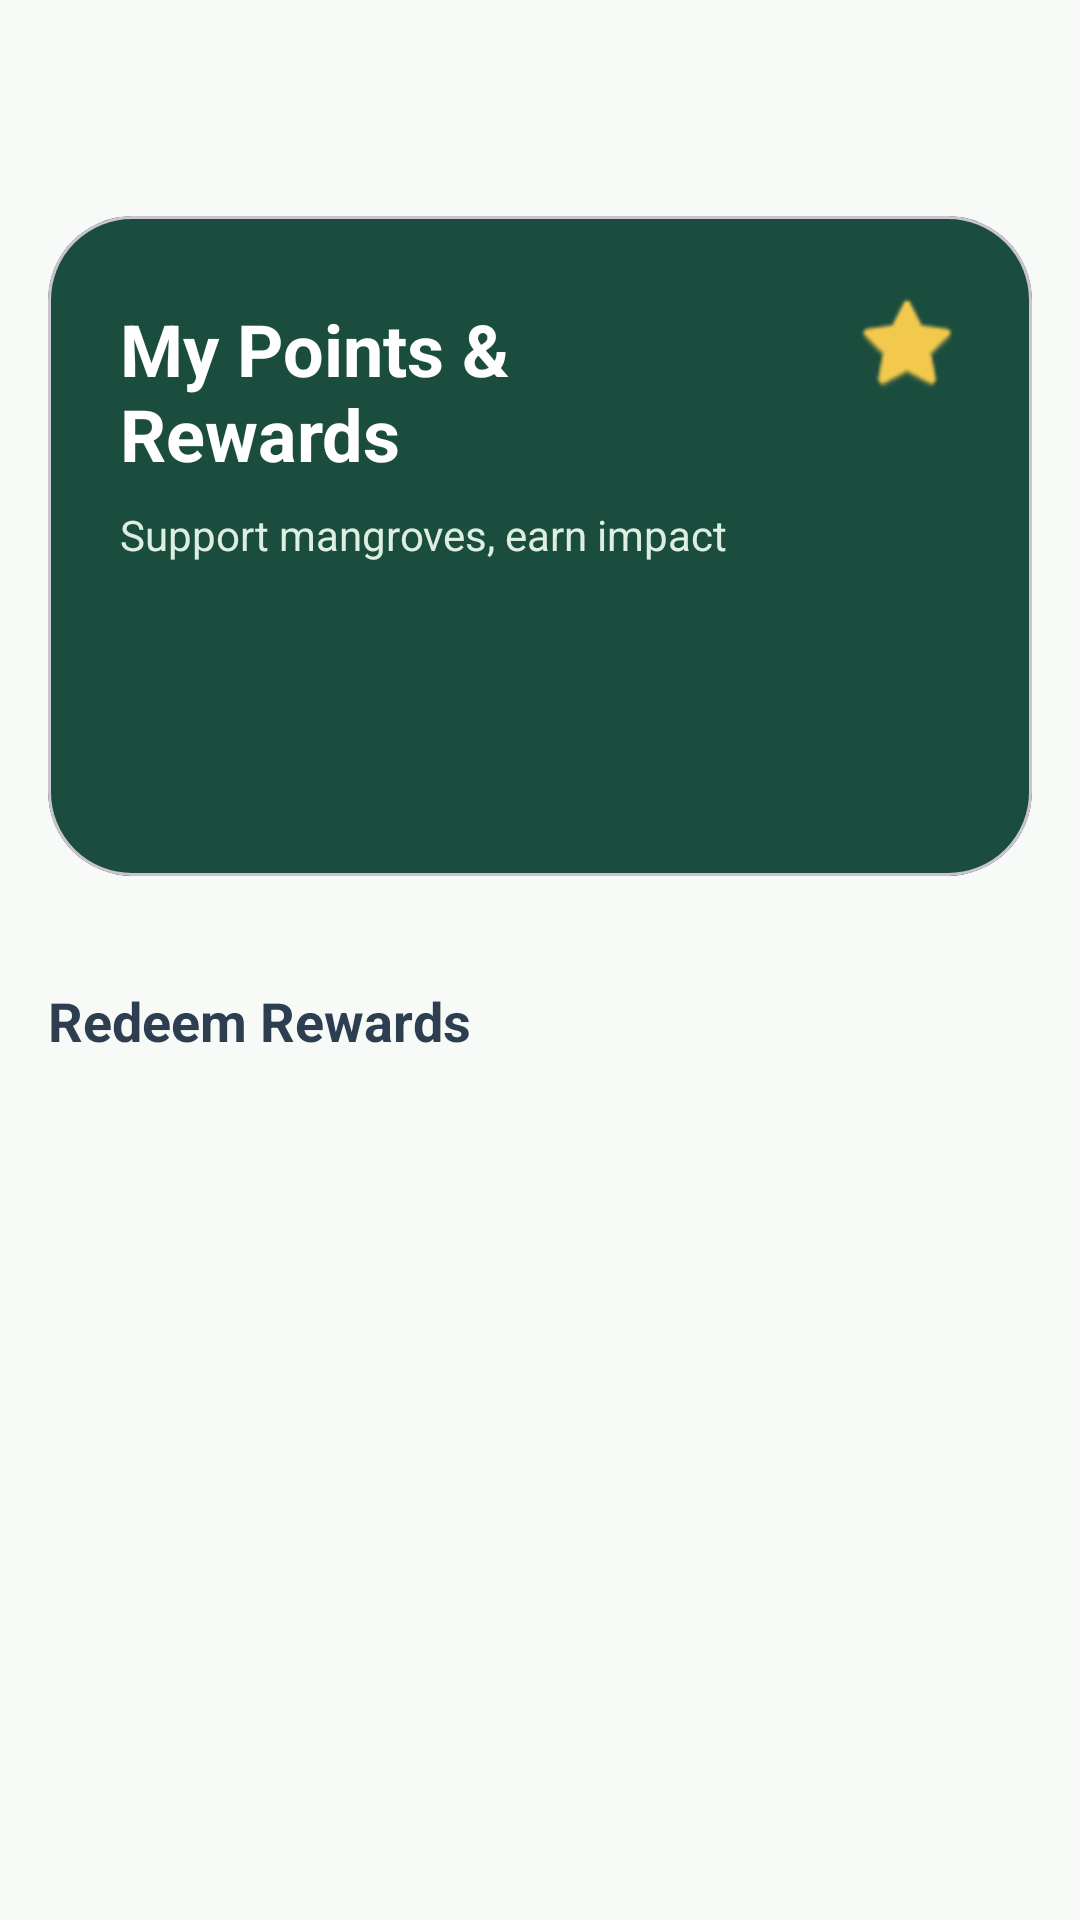

Where icons sit on this 1080px x 1920px app screen, as (x1, y1, x2, y2):
star on: (862, 299, 952, 387)
